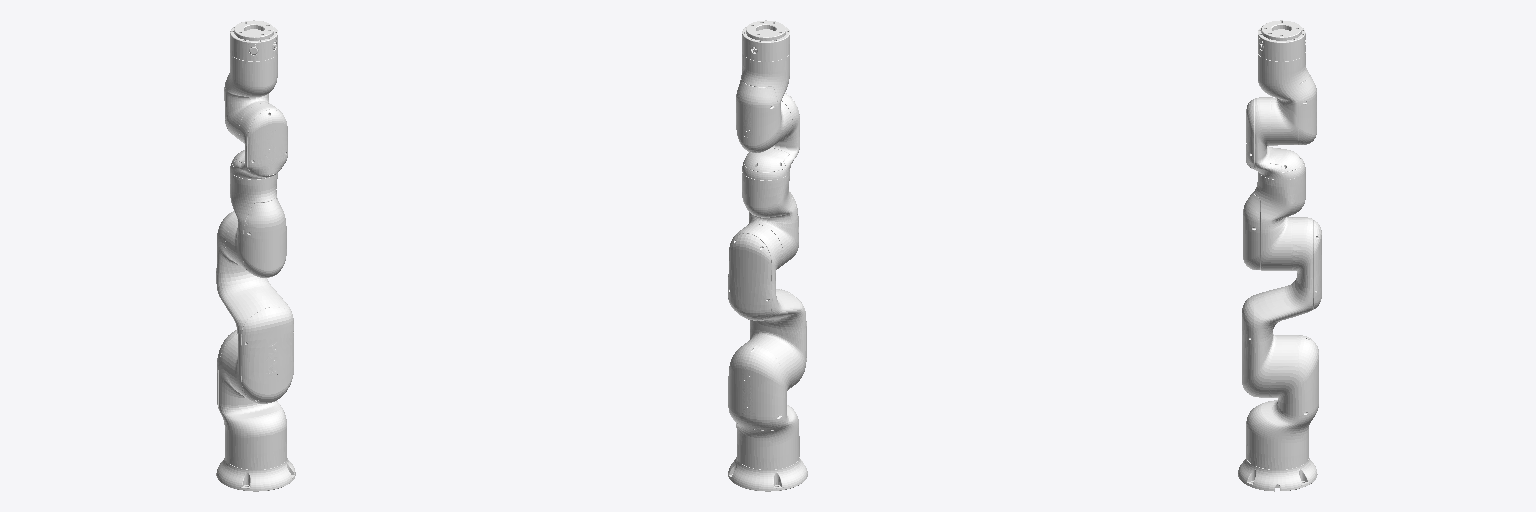
URDF robot description (jaka_minicobo):
<?xml version="1.0" encoding="utf-8"?>
<!-- =================================================================================== -->
<!-- |    This document was autogenerated by xacro from jaka_minicobo.xacro            | -->
<!-- |    EDITING THIS FILE BY HAND IS NOT RECOMMENDED                                 | -->
<!-- =================================================================================== -->
<robot name="jaka_minicobo">
  <!-- MINICOBO -->
  <link name="world"/>
  <joint name="world_joint" type="fixed">
    <parent link="world"/>
    <child link="base_footprint"/>
    <origin rpy="0 0 0" xyz="0 0 0"/>
  </joint>
  <link name="base_footprint">
    <!--
    <xacro:box_inertial_matrix m="200" w ="1" h="0.01" d="1" />
    <visual>
      <origin xyz="0 0 0" rpy="0 0 0" />
      <geometry>
        <box size = "1 1 0.01" />
      </geometry>
      <material name="" />
    </visual>
    <collision>
        <geometry>
          <box size="0 0 0"/>
        </geometry>
        <origin rpy="0 0 0" xyz="0 0 0"/>
      </collision>
-->
  </link>
  <link name="arm_base_link">
    <inertial>
      <origin rpy="0 0 0" xyz="-0.00018006 1.07690000000008E-05 0.013295"/>
      <mass value="0.28093"/>
      <inertia ixx="0.00024785" ixy="-3.0829E-08" ixz="-5.1975E-07" iyy="0.0002461" iyz="-3.19E-08" izz="0.00045567"/>
    </inertial>
    <visual>
      <origin rpy="1.5707963267949 0 0" xyz="0 0 0"/>
      <geometry>
        <mesh filename="package://jaka_description/meshes/jaka_minicobo_meshes/link_0.STL"/>
      </geometry>
      <material name="">
        <color rgba="1 1 1 1"/>
      </material>
    </visual>
    <collision>
      <origin rpy="1.5707963267949 0 0" xyz="0 0 0"/>
      <geometry>
        <mesh filename="package://jaka_description/meshes/jaka_minicobo_meshes/link_0.STL"/>
      </geometry>
    </collision>
  </link>
  <joint name="arm_base_joint" type="fixed">
    <origin rpy="0 0 0" xyz="0 0 0"/>
    <parent link="base_footprint"/>
    <child link="arm_base_link"/>
    <axis xyz="0 0 0"/>
  </joint>
  <link name="shoulder_pan_link">
    <inertial>
      <origin rpy="0 0 0" xyz="9.9123E-05 0.01341 0.09734"/>
      <mass value="1.3529"/>
      <inertia ixx="0.0054998" ixy="-2.716E-07" ixz="-3.4974E-06" iyy="0.0054317" iyz="0.00069142" izz="0.0016731"/>
    </inertial>
    <visual>
      <origin rpy="1.5707963267949 0 0" xyz="0 0 0"/>
      <geometry>
        <mesh filename="package://jaka_description/meshes/jaka_minicobo_meshes/link_1.STL"/>
      </geometry>
      <material name="">
        <color rgba="1 1 1 1"/>
      </material>
    </visual>
    <collision>
      <origin rpy="1.5707963267949 0 0" xyz="0 0 0"/>
      <geometry>
        <mesh filename="package://jaka_description/meshes/jaka_minicobo_meshes/link_1.STL"/>
      </geometry>
    </collision>
  </link>
  <joint name="shoulder_pan_joint" type="continuous">
    <origin rpy="0 0 0" xyz="0 0 0.028"/>
    <parent link="arm_base_link"/>
    <child link="shoulder_pan_link"/>
    <axis xyz="0 0 1"/>
    <limit effort="49" lower="-3" upper="3" velocity="1"/>
  </joint>
  <link name="shoulder_lift_link">
    <inertial>
      <origin rpy="0 0 0" xyz="-2.5363E-05 0.090565 0.00442809999999999"/>
      <mass value="1.1377"/>
      <inertia ixx="0.0082035" ixy="-2.0097E-06" ixz="9.4198E-07" iyy="0.0021505" iyz="-0.0025443" izz="0.0072548"/>
    </inertial>
    <visual>
      <origin rpy="1.5707963267949 0 0" xyz="0 0 0"/>
      <geometry>
        <mesh filename="package://jaka_description/meshes/jaka_minicobo_meshes/link_2.STL"/>
      </geometry>
      <material name="">
        <color rgba="1 1 1 1"/>
      </material>
    </visual>
    <collision>
      <origin rpy="1.5707963267949 0 0" xyz="0 0 0"/>
      <geometry>
        <mesh filename="package://jaka_description/meshes/jaka_minicobo_meshes/link_2.STL"/>
      </geometry>
    </collision>
  </link>
  <joint name="shoulder_lift_joint" type="continuous">
    <origin rpy="1.5708 0 0" xyz="0 0.006 0.159"/>
    <parent link="shoulder_pan_link"/>
    <child link="shoulder_lift_link"/>
    <axis xyz="0 0 1"/>
    <limit effort="49" lower="-3" upper="3" velocity="1"/>
  </joint>
  <link name="elbow_link">
    <inertial>
      <origin rpy="0 0 0" xyz="-4.0304E-05 0.042188 0.012484"/>
      <mass value="0.81111"/>
      <inertia ixx="0.0022134" ixy="-1.6101E-06" ixz="-8.7803E-07" iyy="0.00070261" iyz="-0.00022493" izz="0.0021173"/>
    </inertial>
    <visual>
      <origin rpy="1.5707963267949 0 0" xyz="0 0 0"/>
      <geometry>
        <mesh filename="package://jaka_description/meshes/jaka_minicobo_meshes/link_3.STL"/>
      </geometry>
      <material name="">
        <color rgba="1 1 1 1"/>
      </material>
    </visual>
    <collision>
      <origin rpy="1.5707963267949 0 0" xyz="0 0 0"/>
      <geometry>
        <mesh filename="package://jaka_description/meshes/jaka_minicobo_meshes/link_3.STL"/>
      </geometry>
    </collision>
  </link>
  <joint name="elbow_joint" type="continuous">
    <origin rpy="0 0 0" xyz="0 0.210 0"/>
    <parent link="shoulder_lift_link"/>
    <child link="elbow_link"/>
    <axis xyz="0 0 1"/>
    <limit effort="49" lower="-3" upper="3" velocity="1"/>
  </joint>
  <link name="wrist_1_link">
    <inertial>
      <origin rpy="0 0 0" xyz="2.9484E-06 -0.025942 0.045273"/>
      <mass value="0.3089"/>
      <inertia ixx="0.00048582" ixy="3.9055E-09" ixz="1.7169E-08" iyy="0.0004663" iyz="-0.00011075" izz="0.00023489"/>
    </inertial>
    <visual>
      <origin rpy="1.5707963267949 0 0" xyz="0 0 0"/>
      <geometry>
        <mesh filename="package://jaka_description/meshes/jaka_minicobo_meshes/link_4.STL"/>
      </geometry>
      <material name="">
        <color rgba="1 1 1 1"/>
      </material>
    </visual>
    <collision>
      <origin rpy="1.5707963267949 0 0" xyz="0 0 0"/>
      <geometry>
        <mesh filename="package://jaka_description/meshes/jaka_minicobo_meshes/link_4.STL"/>
      </geometry>
    </collision>
  </link>
  <joint name="wrist_1_joint" type="continuous">
    <origin rpy="-1.5708 0 0" xyz="0 0.1303 0"/>
    <parent link="elbow_link"/>
    <child link="wrist_1_link"/>
    <axis xyz="0 0 1"/>
    <limit effort="11" lower="-3" upper="3" velocity="1"/>
  </joint>
  <link name="wrist_2_link">
    <inertial>
      <origin rpy="0 0 0" xyz="1.9626E-06 0.044545 -0.010248"/>
      <mass value="0.69157"/>
      <inertia ixx="0.0016775" ixy="-1.4833E-07" ixz="2.784E-08" iyy="0.00053632" iyz="0.00016462" izz="0.001608"/>
    </inertial>
    <visual>
      <origin rpy="1.5707963267949 0 0" xyz="0 0 0"/>
      <geometry>
        <mesh filename="package://jaka_description/meshes/jaka_minicobo_meshes/link_5.STL"/>
      </geometry>
      <material name="">
        <color rgba="1 1 1 1"/>
      </material>
    </visual>
    <collision>
      <origin rpy="1.5707963267949 0 0" xyz="0 0 0"/>
      <geometry>
        <mesh filename="package://jaka_description/meshes/jaka_minicobo_meshes/link_5.STL"/>
      </geometry>
    </collision>
  </link>
  <joint name="wrist_2_joint" type="continuous">
    <origin rpy="1.5708 0 0" xyz="0 0 0.0802"/>
    <parent link="wrist_1_link"/>
    <child link="wrist_2_link"/>
    <axis xyz="0 0 1"/>
    <limit effort="11" lower="-3" upper="3" velocity="1"/>
  </joint>
  <link name="wrist_3_link">
    <inertial>
      <origin rpy="0 0 0" xyz="-1.7983E-05 -3.74010000000012E-05 -0.020293"/>
      <mass value="0.14776"/>
      <inertia ixx="6.7361E-05" ixy="-2.38E-08" ixz="6.9658E-08" iyy="6.8321E-05" iyz="8.9675E-08" izz="0.00010506"/>
    </inertial>
    <visual>
      <origin rpy="1.5707963267949 0 0" xyz="0 0 0"/>
      <geometry>
        <mesh filename="package://jaka_description/meshes/jaka_minicobo_meshes/link_6.STL"/>
      </geometry>
      <material name="">
        <color rgba="1 1 1 1"/>
      </material>
    </visual>
    <collision>
      <origin rpy="1.5707963267949 0 0" xyz="0 0 0"/>
      <geometry>
        <mesh filename="package://jaka_description/meshes/jaka_minicobo_meshes/link_6.STL"/>
      </geometry>
    </collision>
  </link>
  <joint name="wrist_3_joint" type="continuous">
    <origin rpy="-1.5708 0 0" xyz="0 0.1593 0"/>
    <parent link="wrist_2_link"/>
    <child link="wrist_3_link"/>
    <axis xyz="0 0 1"/>
    <limit effort="11" lower="-3" upper="3" velocity="1"/>
  </joint>
  <transmission name="shoulder_pan_joint_trans">
    <type>transmission_interface/SimpleTransmission</type>
    <joint name="shoulder_pan_joint">
      <hardwareInterface>hardware_interface/PositionJointInterface</hardwareInterface>
    </joint>
    <actuator name="shoulder_pan_joint_motor">
      <hardwareInterface>hardware_interface/PositionJointInterface</hardwareInterface>
      <mechanicalReduction>1</mechanicalReduction>
    </actuator>
  </transmission>
  <transmission name="shoulder_lift_joint_trans">
    <type>transmission_interface/SimpleTransmission</type>
    <joint name="shoulder_lift_joint">
      <hardwareInterface>hardware_interface/PositionJointInterface</hardwareInterface>
    </joint>
    <actuator name="shoulder_lift_joint_motor">
      <hardwareInterface>hardware_interface/PositionJointInterface</hardwareInterface>
      <mechanicalReduction>1</mechanicalReduction>
    </actuator>
  </transmission>
  <transmission name="elbow_joint_trans">
    <type>transmission_interface/SimpleTransmission</type>
    <joint name="elbow_joint">
      <hardwareInterface>hardware_interface/PositionJointInterface</hardwareInterface>
    </joint>
    <actuator name="elbow_joint_motor">
      <hardwareInterface>hardware_interface/PositionJointInterface</hardwareInterface>
      <mechanicalReduction>1</mechanicalReduction>
    </actuator>
  </transmission>
  <transmission name="wrist_1_joint_trans">
    <type>transmission_interface/SimpleTransmission</type>
    <joint name="wrist_1_joint">
      <hardwareInterface>hardware_interface/PositionJointInterface</hardwareInterface>
    </joint>
    <actuator name="wrist_1_joint_motor">
      <hardwareInterface>hardware_interface/PositionJointInterface</hardwareInterface>
      <mechanicalReduction>1</mechanicalReduction>
    </actuator>
  </transmission>
  <transmission name="wrist_2_joint_trans">
    <type>transmission_interface/SimpleTransmission</type>
    <joint name="wrist_2_joint">
      <hardwareInterface>hardware_interface/PositionJointInterface</hardwareInterface>
    </joint>
    <actuator name="wrist_2_joint_motor">
      <hardwareInterface>hardware_interface/PositionJointInterface</hardwareInterface>
      <mechanicalReduction>1</mechanicalReduction>
    </actuator>
  </transmission>
  <transmission name="wrist_3_joint_trans">
    <type>transmission_interface/SimpleTransmission</type>
    <joint name="wrist_3_joint">
      <hardwareInterface>hardware_interface/PositionJointInterface</hardwareInterface>
    </joint>
    <actuator name="wrist_3_joint_motor">
      <hardwareInterface>hardware_interface/PositionJointInterface</hardwareInterface>
      <mechanicalReduction>1</mechanicalReduction>
    </actuator>
  </transmission>
  <!-- ros_control plugin -->
  <gazebo>
    <plugin filename="libgazebo_ros_control.so" name="gazebo_ros_control">
      <robotNamespace>/jaka_minicobo</robotNamespace>
      <robotSimType>gazebo_ros_control/DefaultRobotHWSim</robotSimType>
      <legacyModeNS>true</legacyModeNS>
    </plugin>
  </gazebo>
</robot>

--- What the picture shows (computed from the rendered views, not written in the file) ---
3 views of the same robot in one strip: view 1: azimuth 30°, elevation 25°; view 2: azimuth 150°, elevation 25°; view 3: azimuth 270°, elevation 25° (orthographic).
Model jaka_minicobo with 9 links and 8 joints (6 continuous, 2 fixed), rooted at world, posed every joint at zero.
Links seen in each view (by area): view 1: shoulder_lift_link, shoulder_pan_link, elbow_link, wrist_1_link, wrist_2_link, wrist_3_link, arm_base_link; view 2: shoulder_pan_link, shoulder_lift_link, wrist_2_link, elbow_link, wrist_1_link, wrist_3_link, arm_base_link; view 3: shoulder_pan_link, shoulder_lift_link, elbow_link, wrist_2_link, wrist_1_link, wrist_3_link, arm_base_link.
Link boxes in pixels (x1,y1,x2,y2): shoulder_lift_link: (216,211,293,403); shoulder_pan_link: (217,330,286,469); elbow_link: (225,171,286,277); wrist_1_link: (230,103,287,179); wrist_2_link: (224,53,277,141); wrist_3_link: (230,20,277,61); arm_base_link: (216,458,295,491); shoulder_pan_link: (728,336,799,469); shoulder_lift_link: (728,224,806,390); wrist_2_link: (736,54,792,152); elbow_link: (742,172,798,268); wrist_1_link: (742,93,799,180); wrist_3_link: (742,20,789,61); arm_base_link: (728,457,807,491); shoulder_pan_link: (1246,335,1318,469); shoulder_lift_link: (1242,217,1321,397); elbow_link: (1243,171,1305,270); wrist_2_link: (1258,52,1316,145); wrist_1_link: (1246,97,1305,179); wrist_3_link: (1258,20,1305,61); arm_base_link: (1238,458,1317,491).
Bounding box of the posed robot: 0.1238 × 0.131 × 0.7668 m (x, y, z).
7 mesh visuals loaded from 7 distinct referenced files (7 binary STL).
